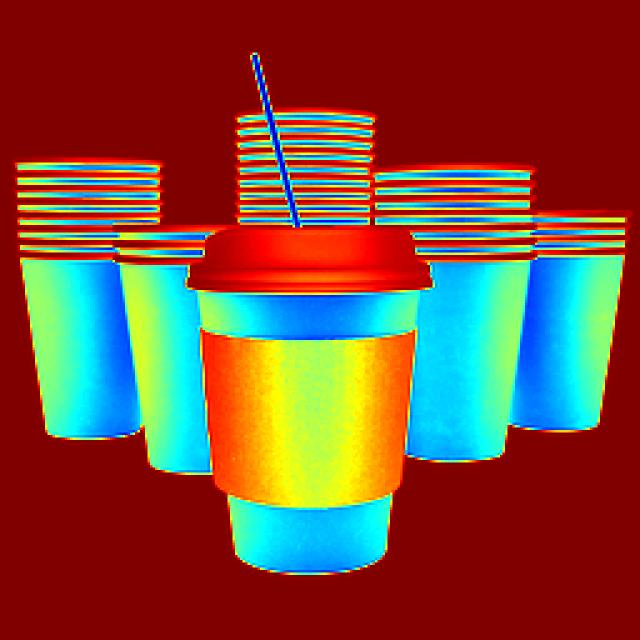Paper Cups: (191, 196, 436, 599), (8, 142, 179, 450), (392, 155, 545, 426), (535, 183, 624, 425)
